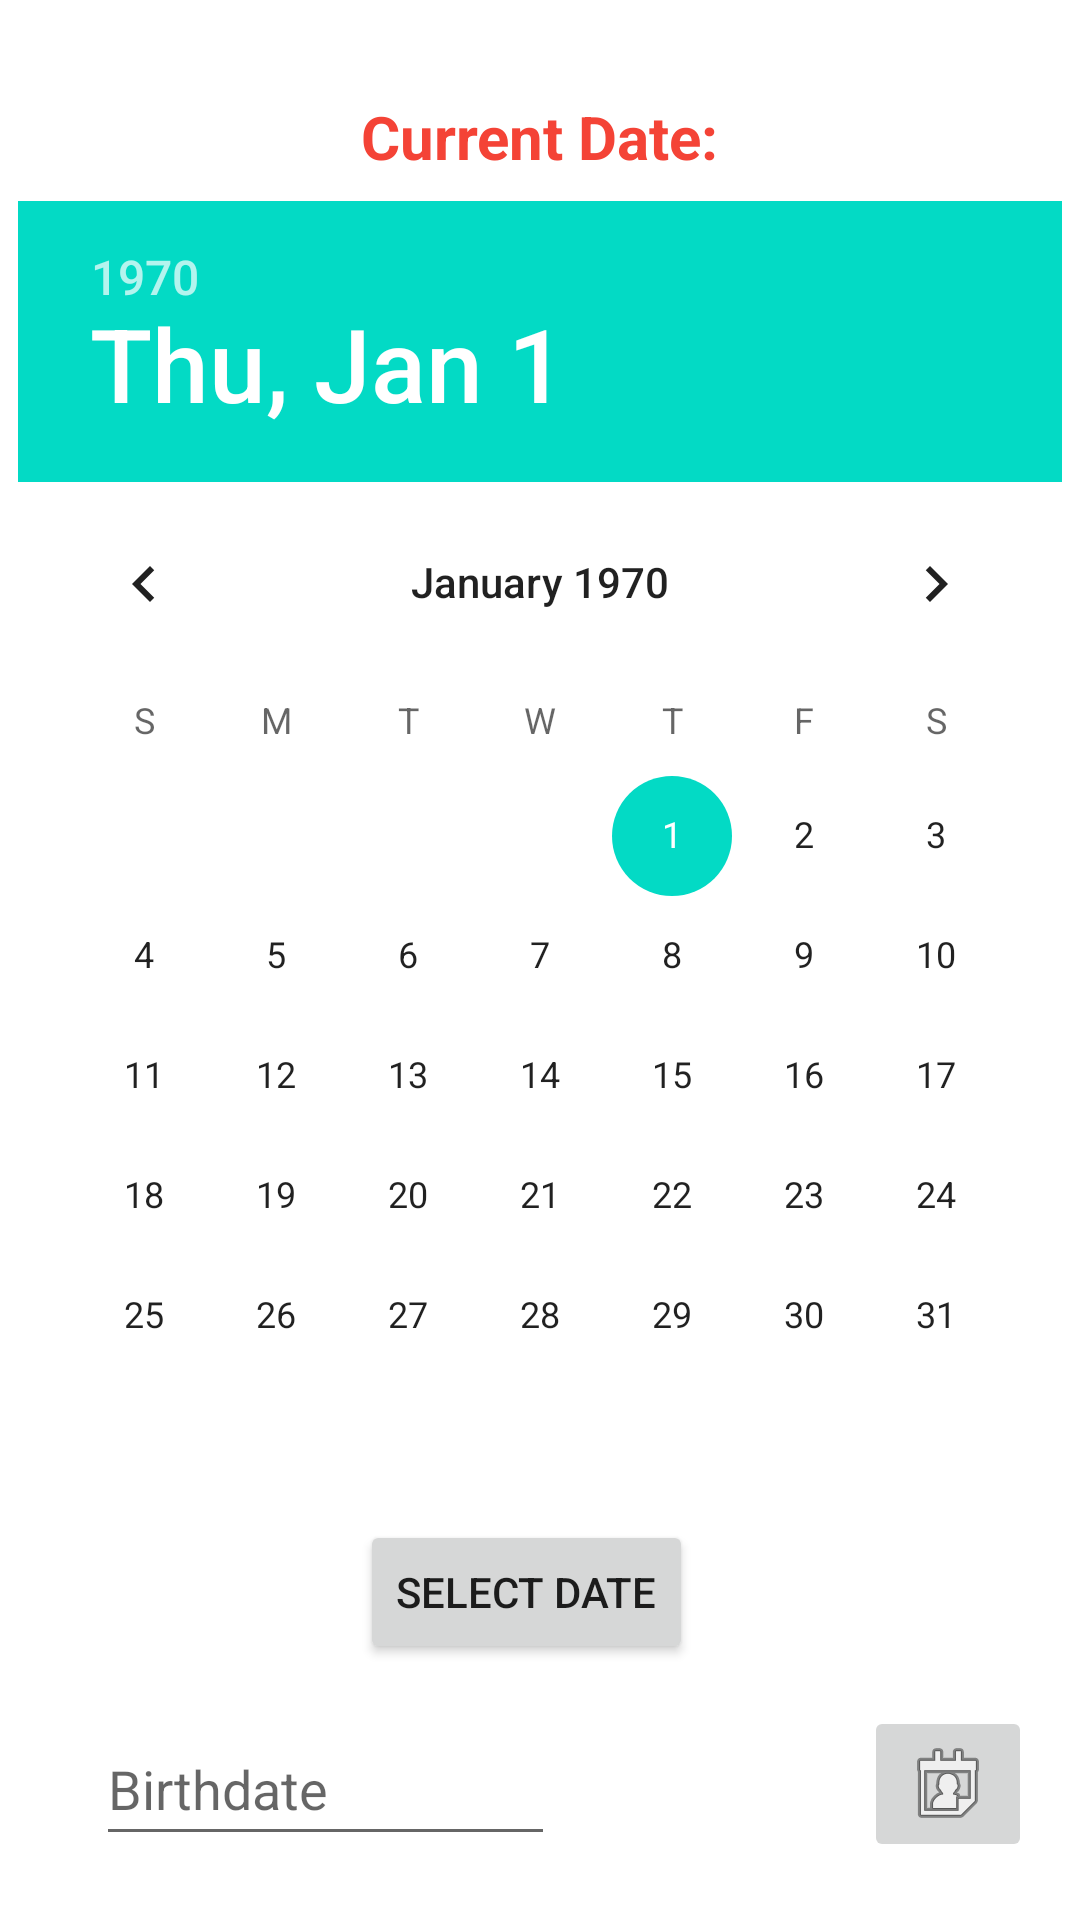

Named icons in this screenshot (1080*1920) and their bounding boxes, (x1, y1, x2, y2):
Select Date: (876, 1724, 1020, 1844)
